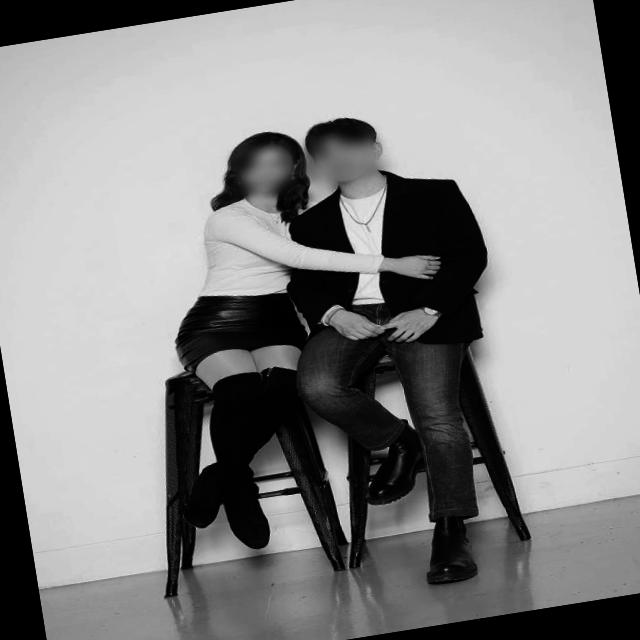blazer: (280, 152, 500, 368)
denimpants: (283, 286, 491, 542)
longsleeve: (194, 178, 392, 312)
skirt: (166, 275, 312, 375)
